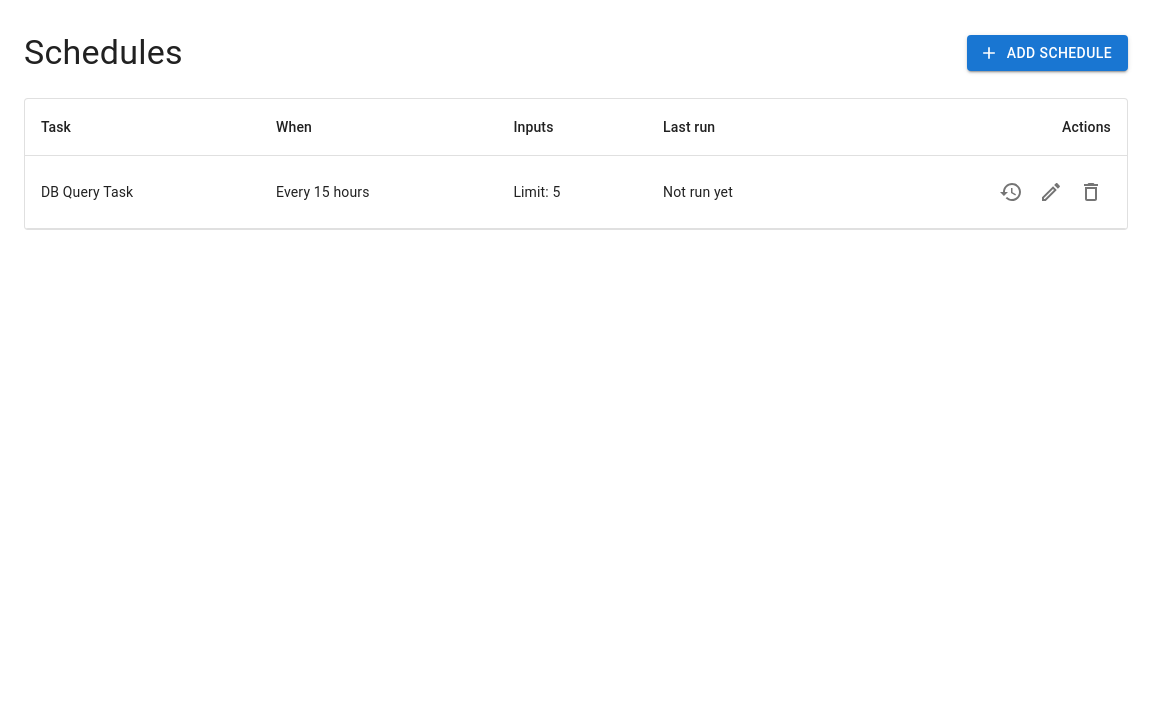
Test case: editing a schedule › every X: the form opens filled
Click the button named "Edit schedule".
click(1051, 192)  # box [1031,172,1071,212]
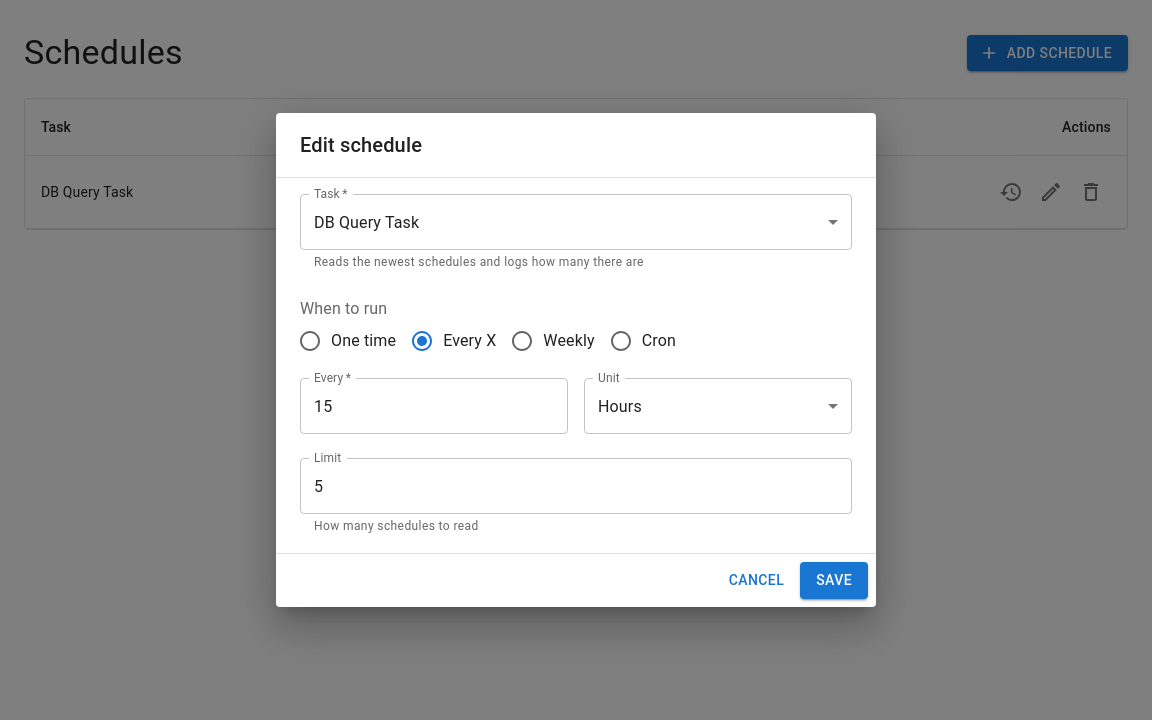
Expected: the dropdown labelled "DB Query Task" is shown, [314,213,419,232]
Expected: the radio button labelled "Every X" is checked, [410,329,496,353]
Expected: the number field labelled "Every *" holds "15", [300,378,568,434]
